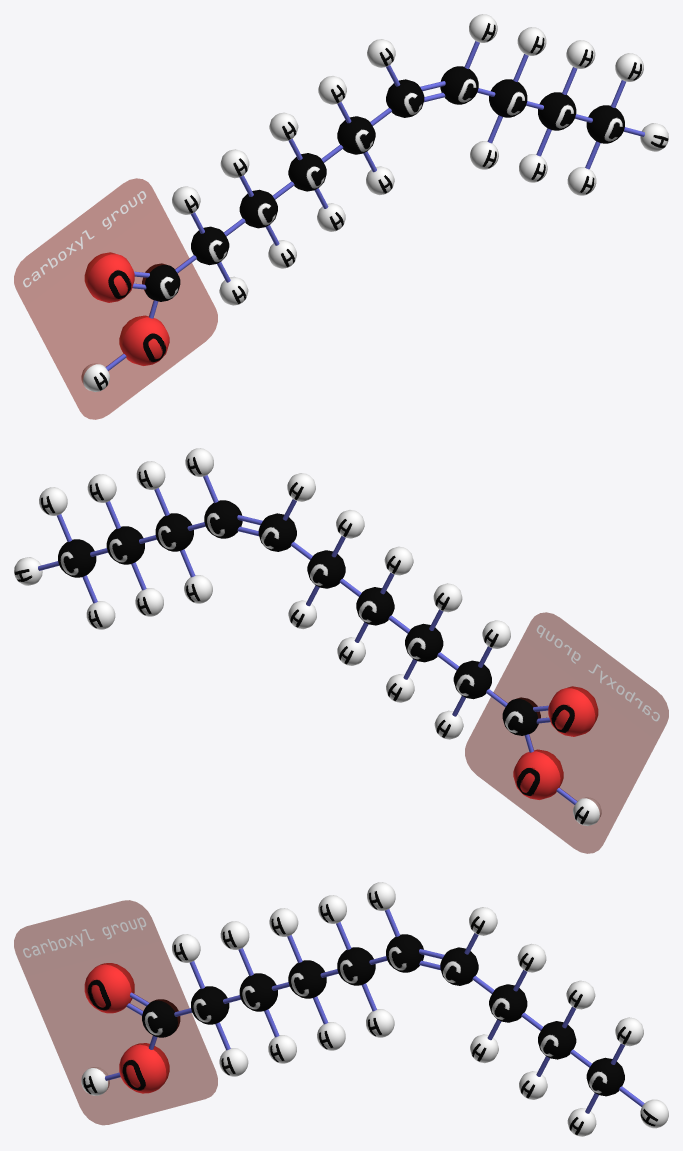
Rendered from chapter-1-section-4-unsaturated-fatty-acid.glb.
The picture shows the model from 3 angles, top to bottom: view 1: azimuth 30°, elevation 25°; view 2: azimuth 150°, elevation 25°; view 3: azimuth 330°, elevation 25°; orthographic projection.
Visible parts, largest first — view 1: Plane.021, Plane.022, Plane.023, oxygen.007, oxygen.009, carbon.005, hydrogen.002, Plane.013; view 2: Plane.021, Plane.022, Plane.023, oxygen.007, oxygen.009, carbon.005, hydrogen.002, Plane.013; view 3: Plane.021, Plane.022, Plane.023, oxygen.009, oxygen.007, carbon.005, Plane.013, hydrogen.002.
Boxes of the visible parts, x1,y1,x2,y2 form: Plane.021: [14, 178, 217, 419]; Plane.022: [172, 39, 424, 305]; Plane.023: [440, 14, 643, 195]; oxygen.007: [84, 252, 134, 302]; oxygen.009: [119, 315, 169, 365]; carbon.005: [142, 263, 180, 301]; hydrogen.002: [81, 363, 109, 391]; Plane.013: [640, 123, 668, 151]; Plane.021: [465, 612, 668, 853]; Plane.022: [258, 473, 510, 739]; Plane.023: [39, 448, 242, 629]; oxygen.007: [548, 686, 598, 736]; oxygen.009: [513, 749, 563, 799]; carbon.005: [502, 697, 540, 735]; hydrogen.002: [573, 797, 601, 825]; Plane.013: [14, 557, 42, 585]; Plane.021: [14, 900, 217, 1125]; Plane.022: [172, 882, 424, 1076]; Plane.023: [440, 907, 643, 1136]; oxygen.009: [119, 1043, 169, 1093]; oxygen.007: [84, 963, 134, 1013]; carbon.005: [142, 999, 180, 1037]; Plane.013: [640, 1099, 668, 1128]; hydrogen.002: [81, 1067, 109, 1095].
Bounding box in the file's own units: 12.03 × 5.46 × 0.81.
Materials: 6 (4 with a texture image).
